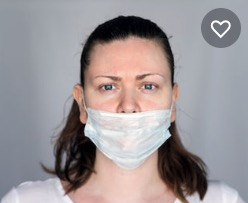mask_weared_incorrect: (90, 66, 174, 162)
